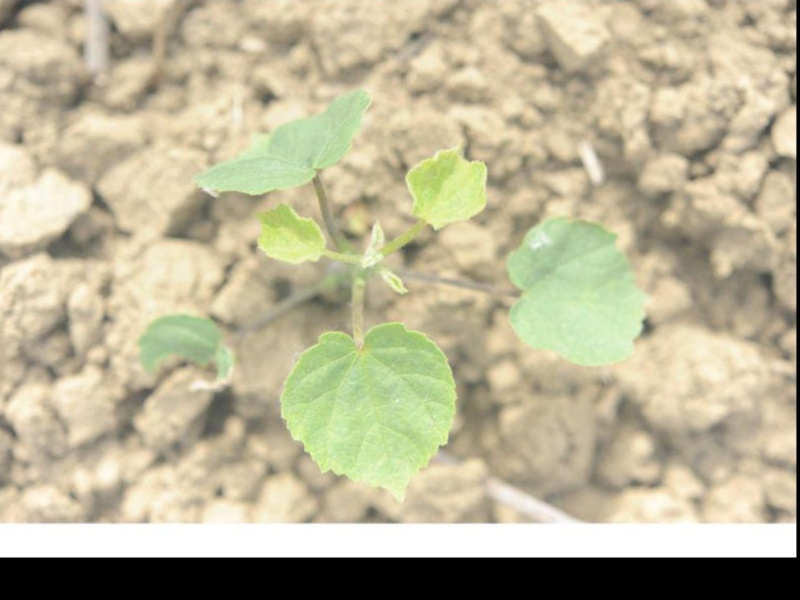velvet: (136, 86, 646, 500)
